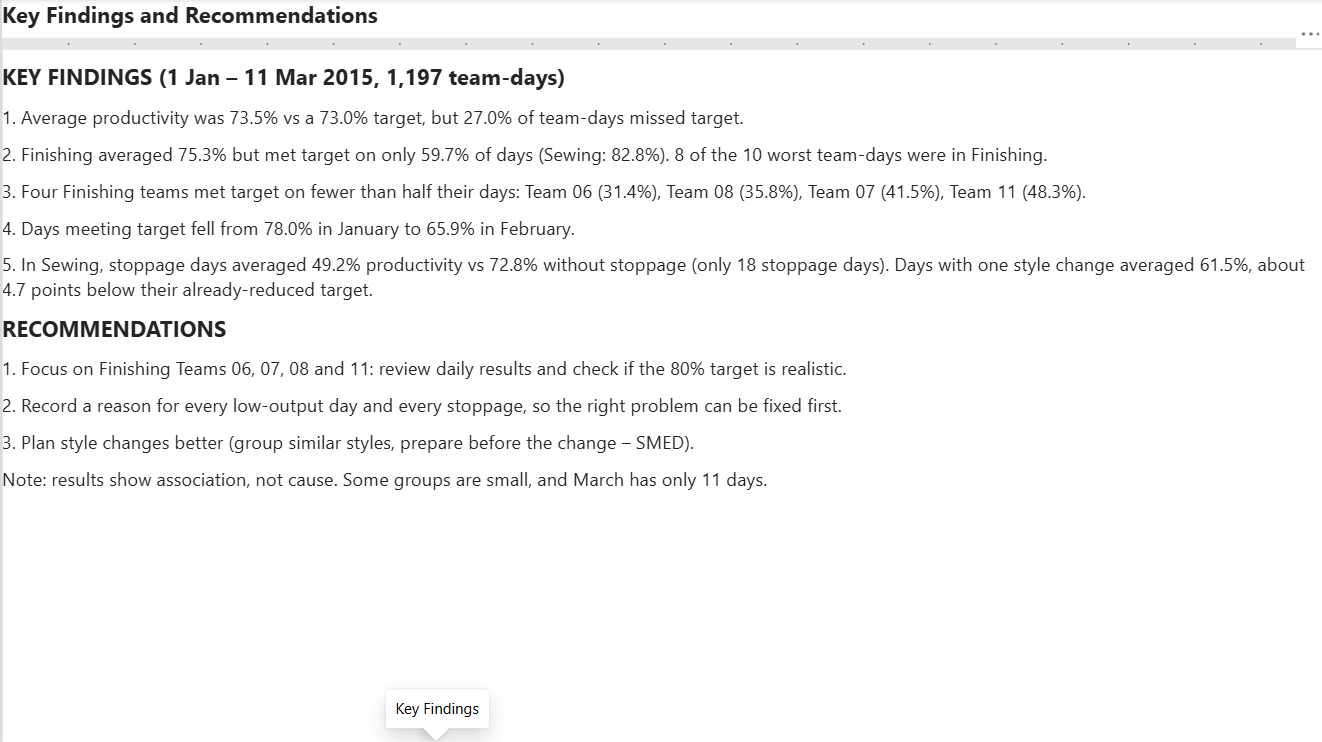

Layout of this report page (visuals, bound fields, positions):
{"tool":"powerbi","page":{"name":"Key Findings","canvas":[1920,1080],"ordinal":3},"visuals":[{"type":"textbox","box":[0,0,1920,56.2],"z":0},{"type":"textbox","box":[0,72.5,1920,1007.1],"z":1}]}

Visuals, with their boxes on the page's 1920x1080 design canvas (x1, y1, x2, y2). These are canvas units, not pixel positions in the 1322x742 screenshot, which may show the page scaled, cropped or inside an application window:
textbox: {"left": 0, "top": 0, "right": 1920, "bottom": 56}
textbox: {"left": 0, "top": 72, "right": 1920, "bottom": 1080}
